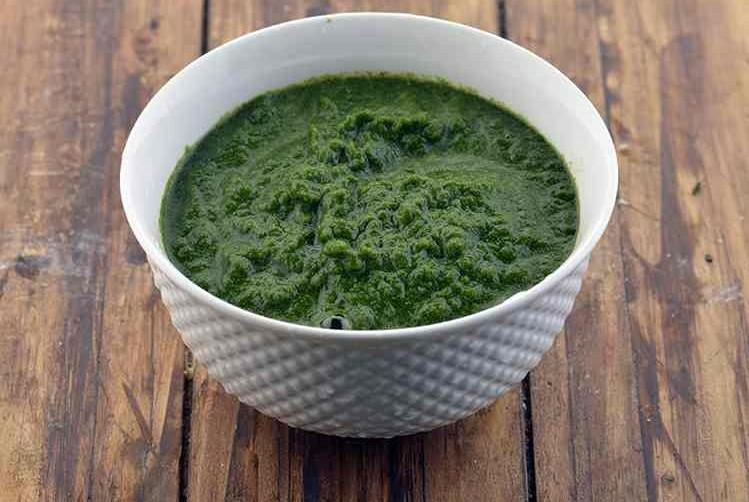GreenChutney: (160, 73, 579, 331)
